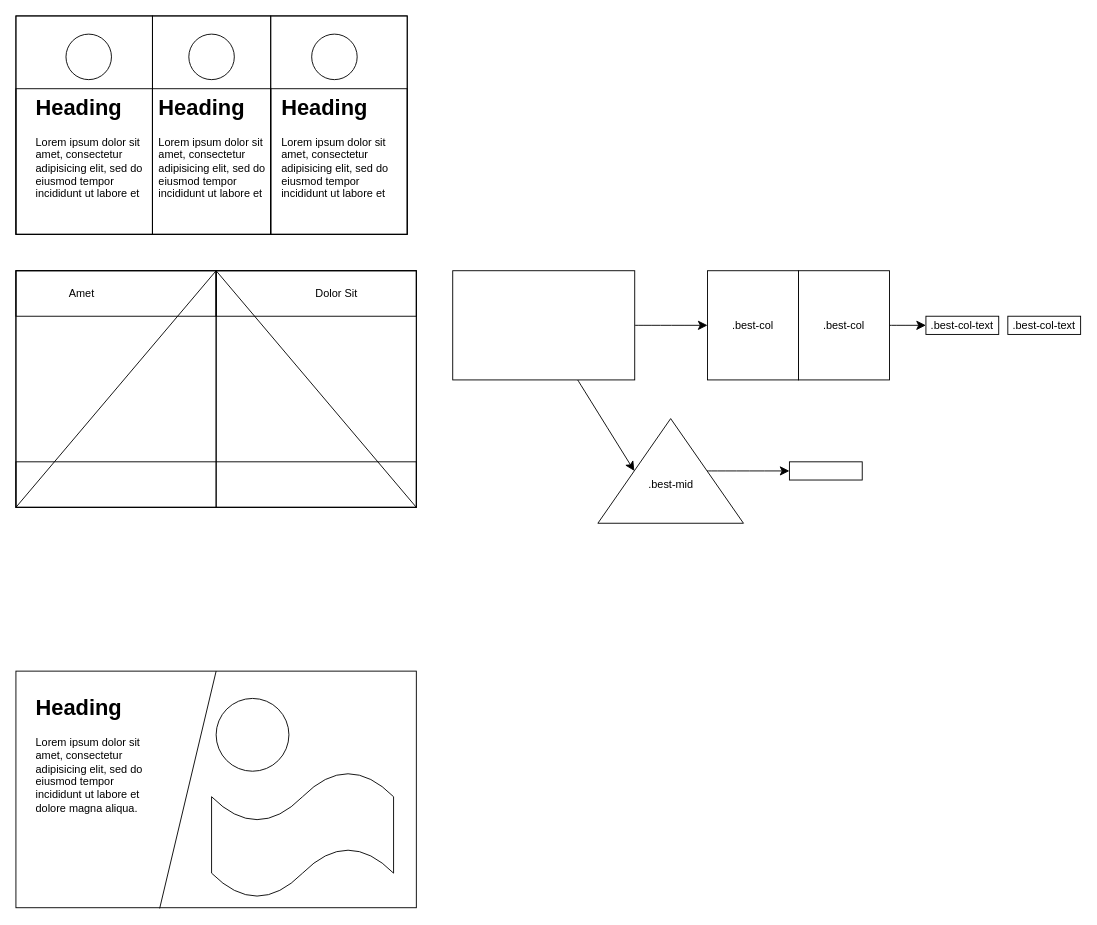
This 1097x925 diagram has some shape labels left out. The centre of each missing label's shape, as x and y in pixels:
.best: the point at 543,325
.best-mid-text: the point at 825,470
Lorem Ipsum: the point at 215,484
